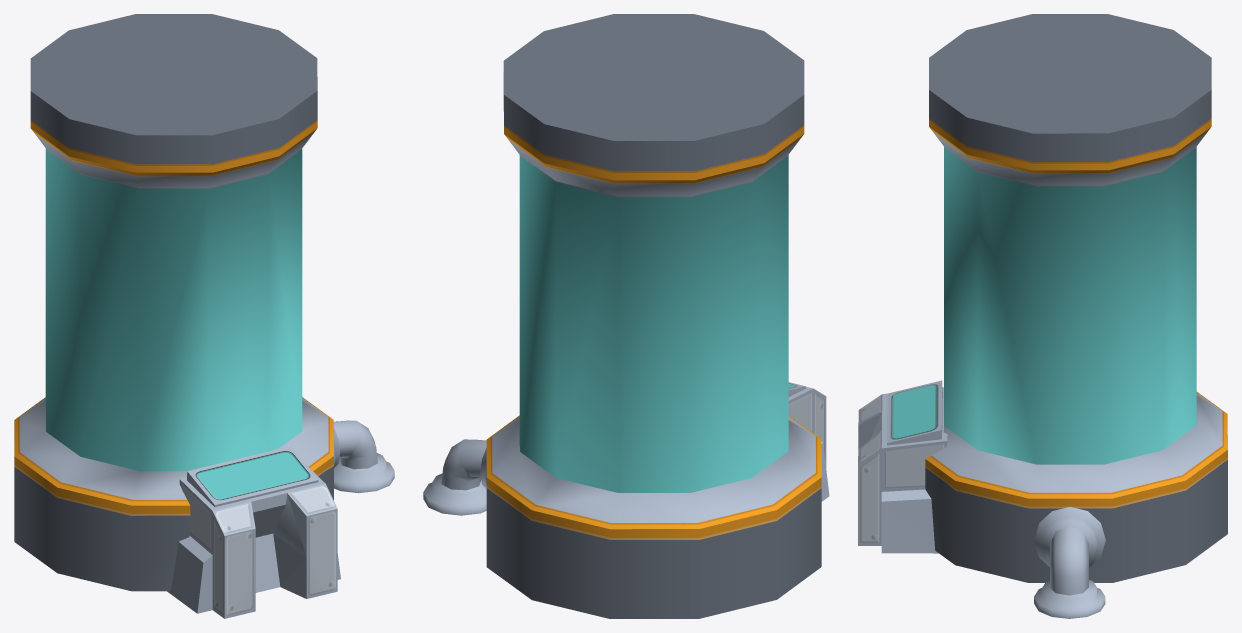
Rendered from Envi16.dae.
3 views of the same model, side by side, from view 1: azimuth 30°, elevation 25°; view 2: azimuth 150°, elevation 25°; view 3: azimuth 270°, elevation 25° (orthographic). The views are drawn at different scales.
Visible parts, largest first — view 1: Cylinder.030; view 2: Cylinder.030; view 3: Cylinder.030.
Part boxes in pixels (bbox=[...]): Cylinder.030: bbox=[14, 14, 394, 618]; Cylinder.030: bbox=[423, 14, 829, 618]; Cylinder.030: bbox=[858, 14, 1227, 618].
Bounding box in the file's own units: 2.11 × 1.93 × 2.57.
